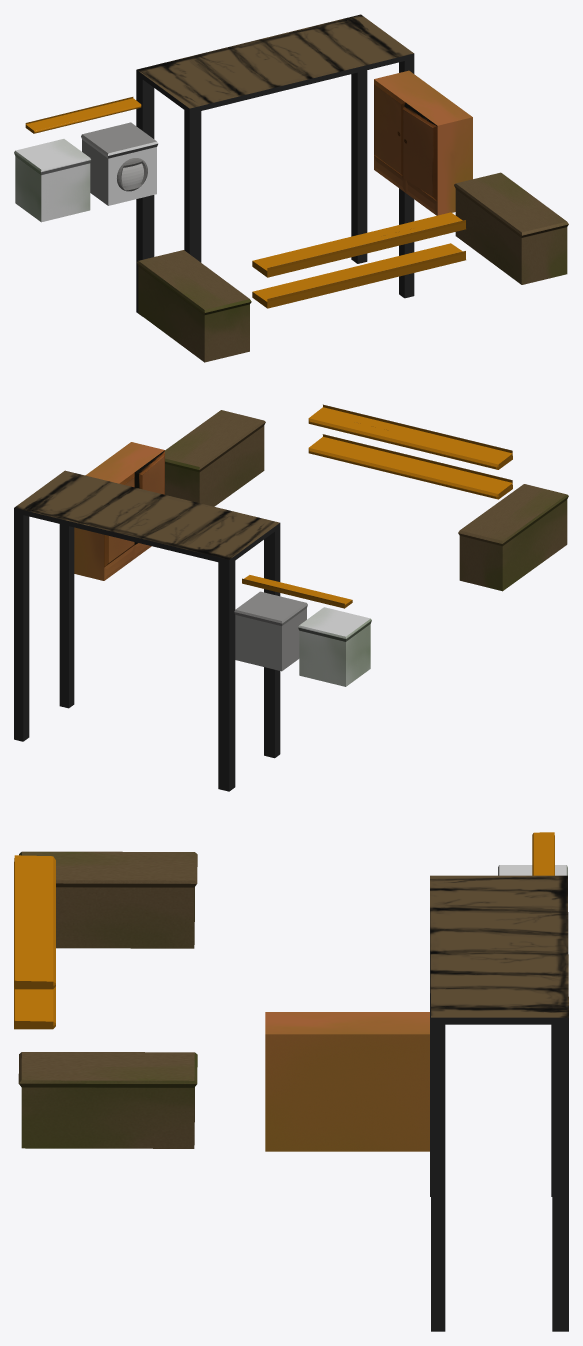
File: Pantry furniture mk2.fbx
3 renders of one model, top to bottom at view 1: azimuth 30°, elevation 25°; view 2: azimuth 150°, elevation 25°; view 3: azimuth 270°, elevation 25°, orthographic. The views are drawn at different scales.
Parts seen in each view (by area): view 1: secret hatch, cabinet.010, trunk, trunk.001, tumble dryer, Washing machine, shelf, shelf.001, shelf.003; view 2: secret hatch, trunk, trunk.001, cabinet.010, tumble dryer, Washing machine, shelf, shelf.001, shelf.003; view 3: secret hatch, cabinet.010, trunk.001, trunk, shelf.001, shelf, shelf.003.
Boxes of the visible parts, x1=… form: secret hatch: x1=136, y1=14, x2=414, y2=316; cabinet.010: x1=374, y1=70, x2=472, y2=215; trunk: x1=137, y1=250, x2=251, y2=362; trunk.001: x1=454, y1=172, x2=568, y2=284; tumble dryer: x1=14, y1=139, x2=91, y2=222; Washing machine: x1=81, y1=122, x2=158, y2=205; shelf: x1=252, y1=243, x2=465, y2=308; shelf.001: x1=252, y1=212, x2=465, y2=277; shelf.003: x1=25, y1=97, x2=141, y2=133; secret hatch: x1=14, y1=470, x2=280, y2=791; trunk: x1=458, y1=484, x2=568, y2=591; trunk.001: x1=165, y1=410, x2=265, y2=506; cabinet.010: x1=74, y1=442, x2=164, y2=580; tumble dryer: x1=298, y1=607, x2=371, y2=686; Washing machine: x1=234, y1=591, x2=307, y2=671; shelf: x1=308, y1=434, x2=512, y2=499; shelf.001: x1=308, y1=404, x2=512, y2=469; shelf.003: x1=242, y1=575, x2=352, y2=608; secret hatch: x1=430, y1=875, x2=568, y2=1331; cabinet.010: x1=265, y1=1012, x2=429, y2=1151; trunk.001: x1=18, y1=1052, x2=197, y2=1148; trunk: x1=19, y1=851, x2=197, y2=948; shelf.001: x1=14, y1=855, x2=55, y2=989; shelf: x1=14, y1=986, x2=55, y2=1029; shelf.003: x1=532, y1=832, x2=554, y2=875.
Size of the model in its own units: 1088 by 684 by 1097.
